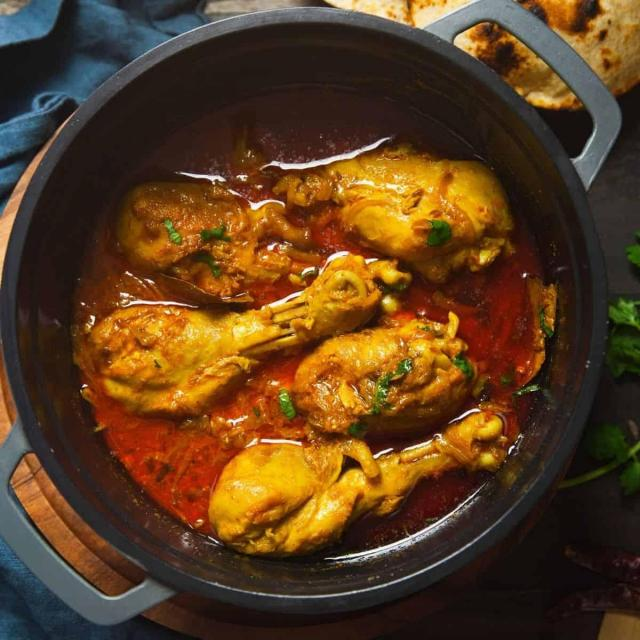chicken: (64, 44, 574, 572)
